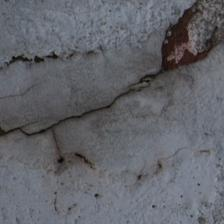Crack: (121, 20, 190, 92), (43, 91, 116, 128)
